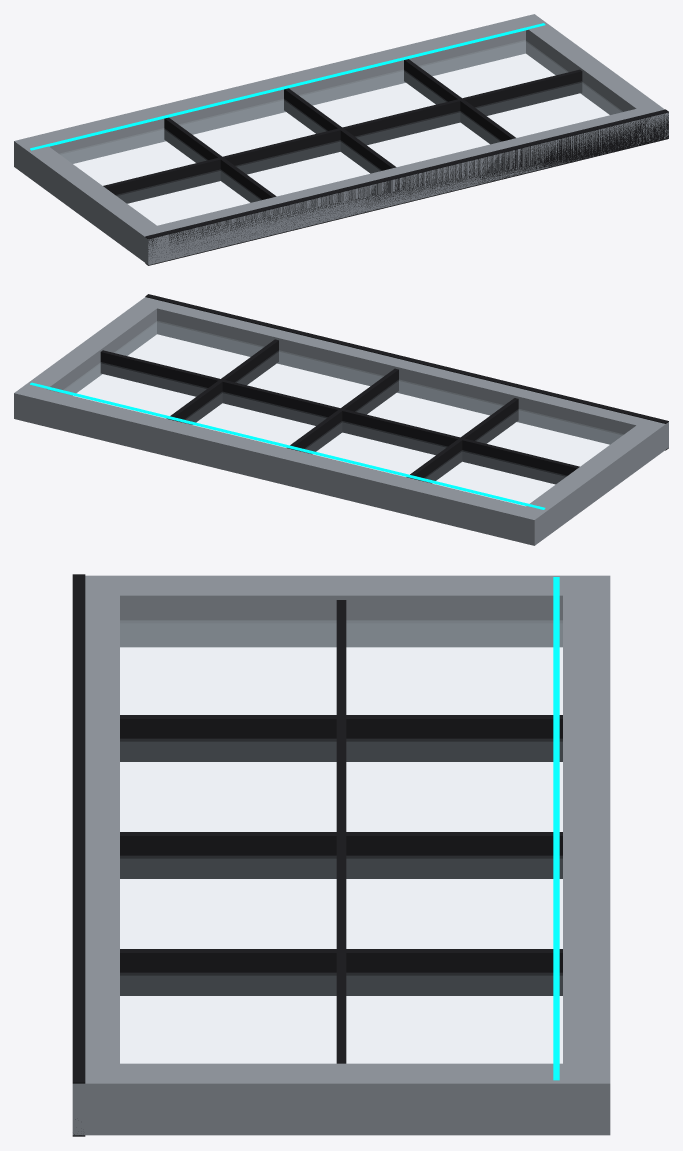
The model's file is Window_Unit.glb.
3 renders of one model, top to bottom at view 1: azimuth 30°, elevation 25°; view 2: azimuth 150°, elevation 25°; view 3: azimuth 270°, elevation 25°, orthographic. The views are drawn at different scales.
Parts seen in each view (by area): view 1: Window_Frame, glass; view 2: Window_Frame, glass; view 3: Window_Frame, glass.
Boxes of the visible parts, x1,y1,x2,y2 form: Window_Frame: (14, 14, 668, 265); glass: (61, 40, 622, 225); Window_Frame: (14, 294, 668, 545); glass: (64, 321, 621, 503); Window_Frame: (72, 574, 610, 1136); glass: (120, 620, 562, 1063).
Bounding box in the file's own units: 7.6 × 0.385 × 3.4.
